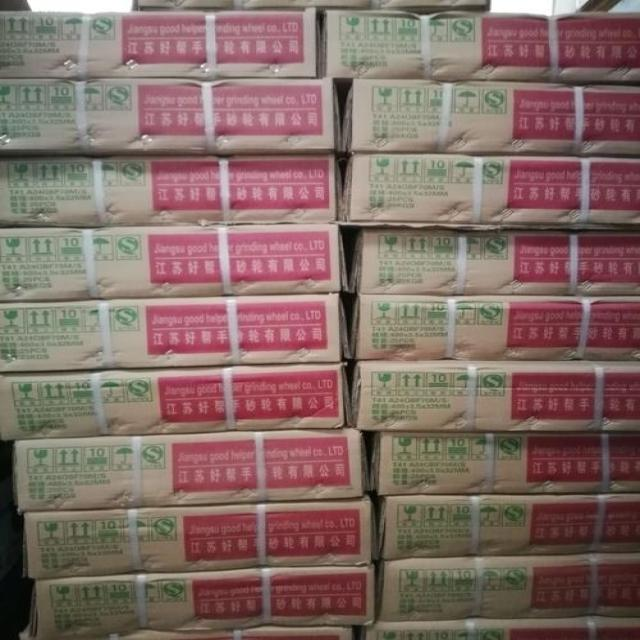box: (24, 494, 376, 579), (13, 428, 370, 511), (20, 563, 376, 640), (0, 362, 349, 440), (0, 224, 348, 302), (0, 294, 348, 372), (0, 79, 343, 155), (0, 155, 344, 227), (321, 10, 640, 82), (0, 8, 323, 79), (340, 80, 640, 156), (349, 361, 640, 434), (343, 154, 640, 225), (348, 228, 640, 296), (348, 295, 640, 361), (375, 554, 640, 622), (370, 431, 640, 496), (379, 493, 640, 559), (356, 614, 640, 639), (23, 624, 356, 640), (132, 0, 492, 14)
